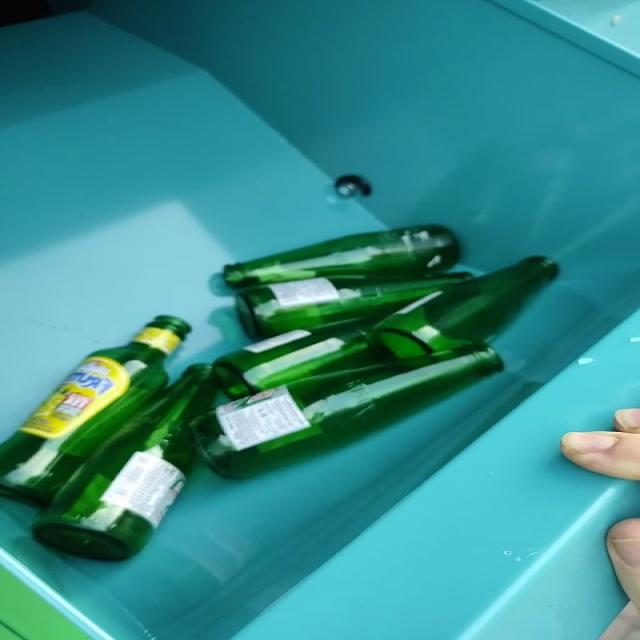glass: (0, 226, 559, 561)
